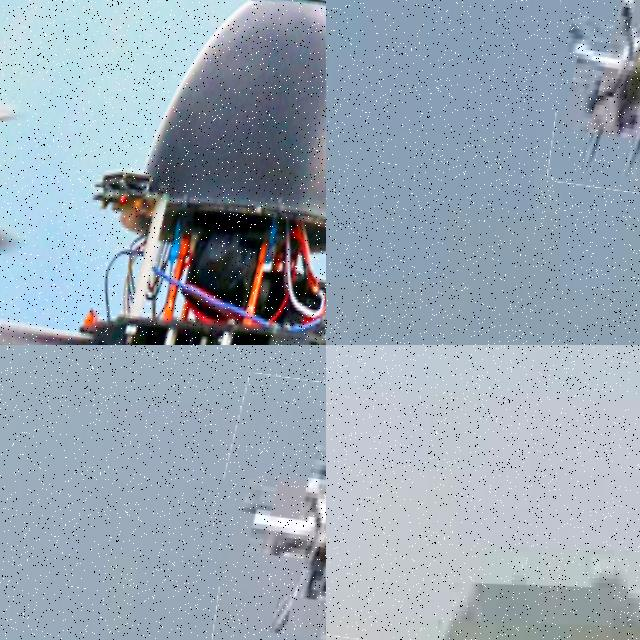0: (215, 377, 326, 640), (553, 0, 640, 200)
drone: (0, 0, 326, 345)
